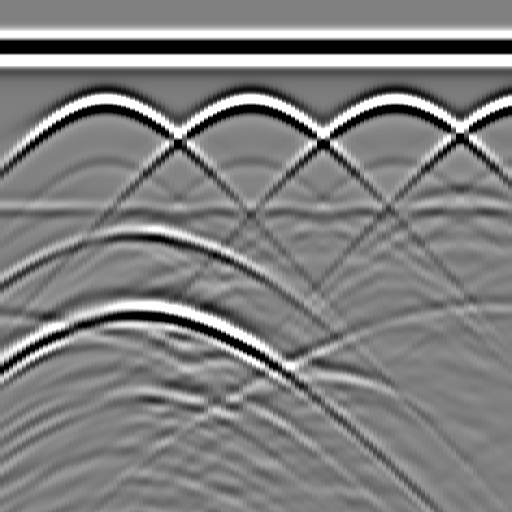grout_surface: (1, 196, 512, 226)
rebar: (84, 83, 124, 123), (228, 83, 268, 123), (372, 83, 412, 123), (502, 83, 512, 123)
rock_surface: (1, 306, 511, 378)
water_void: (106, 207, 166, 247)
